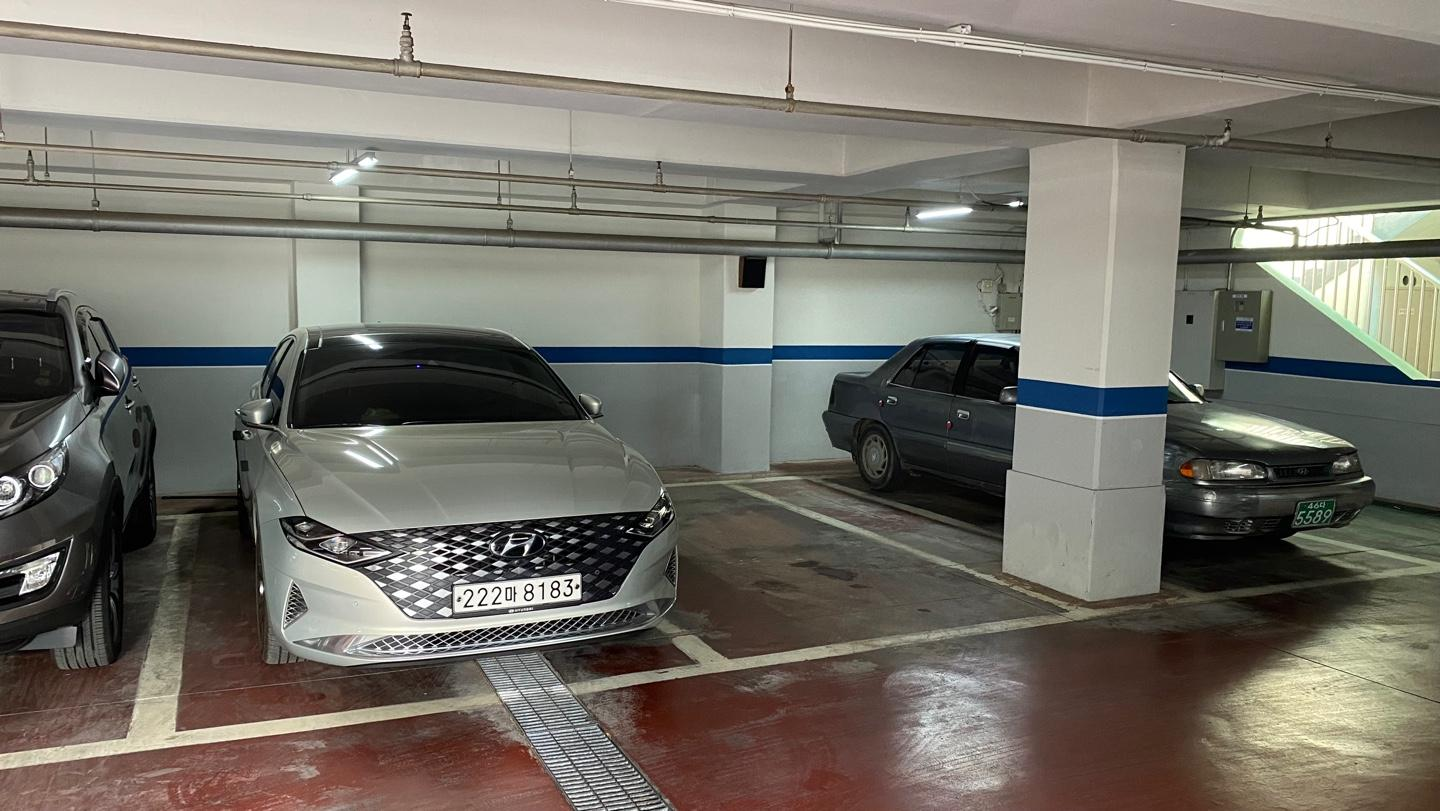empty: (658, 462, 1105, 686)
occupied: (237, 329, 680, 659)
